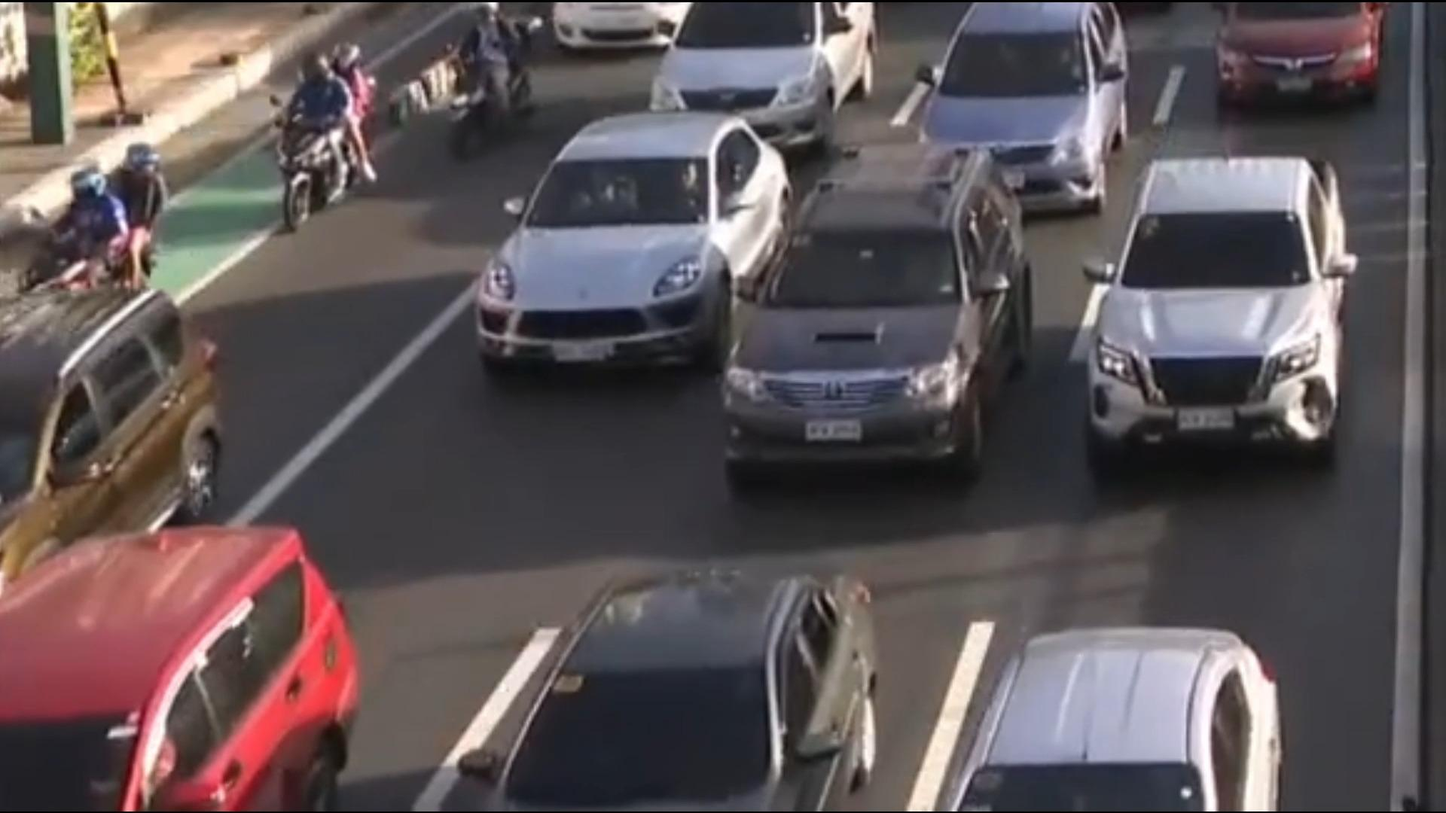Motorcycle: (484, 110, 797, 391), (20, 139, 166, 307), (278, 40, 373, 238), (447, 0, 537, 160)
Pickup: (1080, 139, 1346, 474)
SUV: (712, 145, 1029, 502), (0, 512, 363, 813), (0, 277, 224, 572), (948, 623, 1284, 813), (920, 6, 1137, 209)
Sedan: (453, 561, 887, 813), (643, 0, 881, 145)
